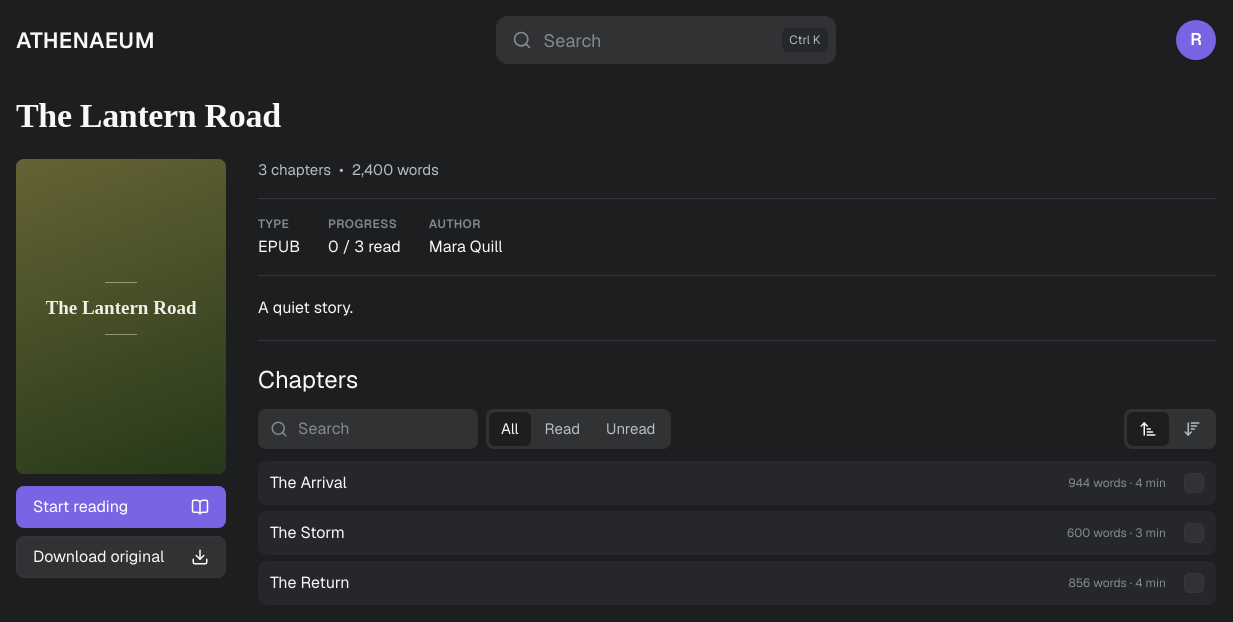
it: book page: chapter list › says so when a filter matches nothing
Expected: the list named "Chapters" is shown, [258, 461, 1216, 605]
Step 1. Click the button "Read" → (562, 429), box [533, 412, 592, 446]
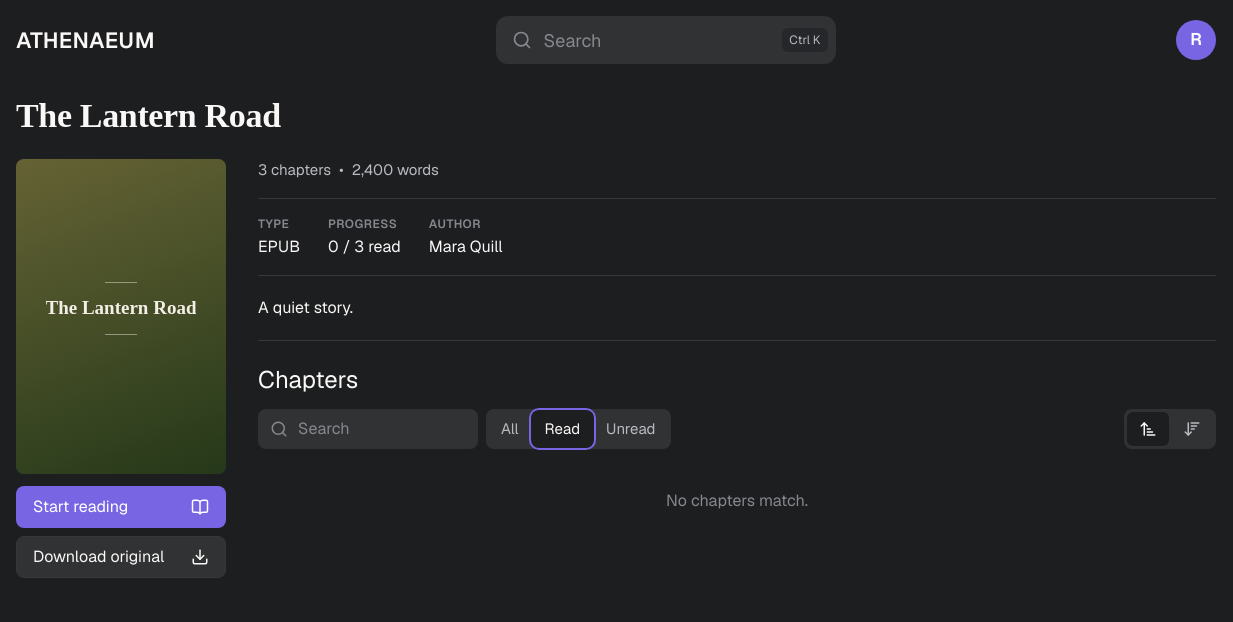
Result: the text "No chapters match." is shown at [666, 490, 808, 511]
